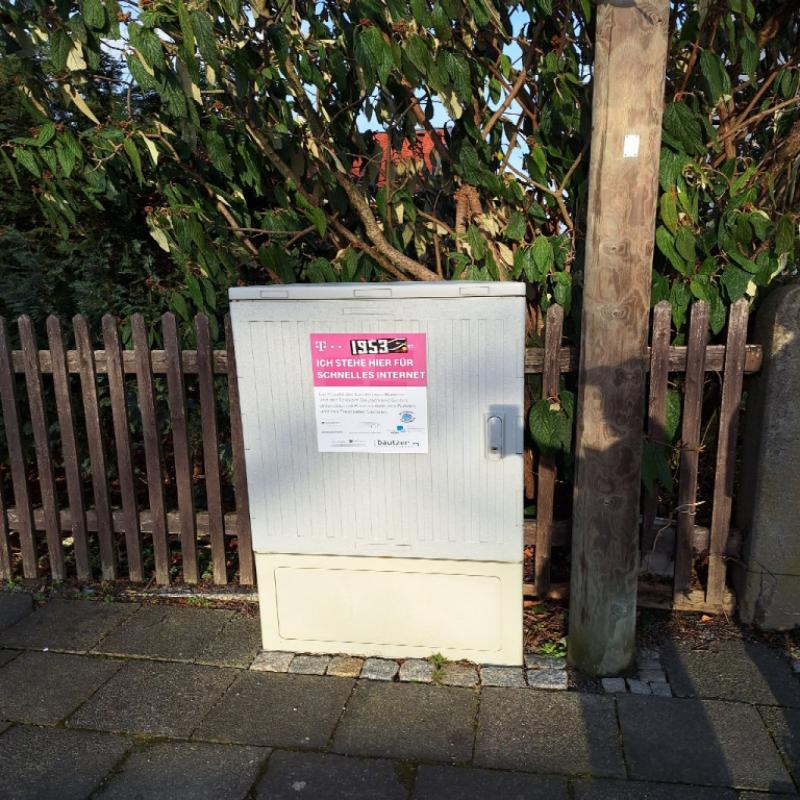NT-Gehause: (225, 284, 521, 659)
Steaker: (315, 334, 426, 456)
